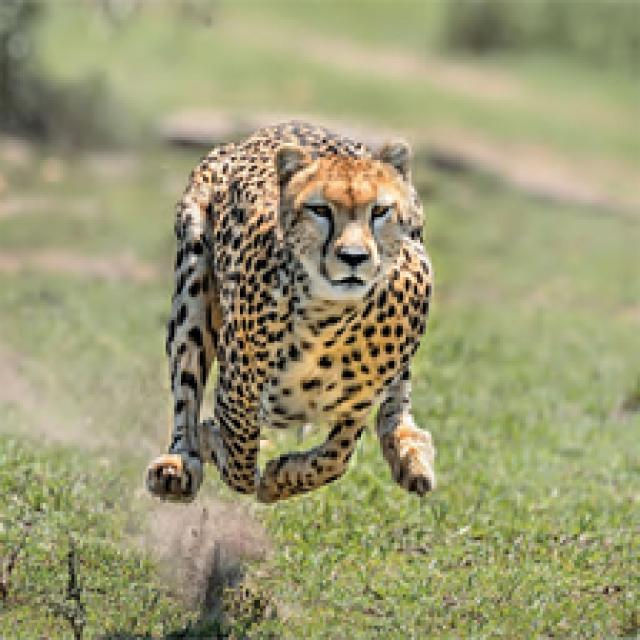cheetah: (111, 89, 468, 546)
